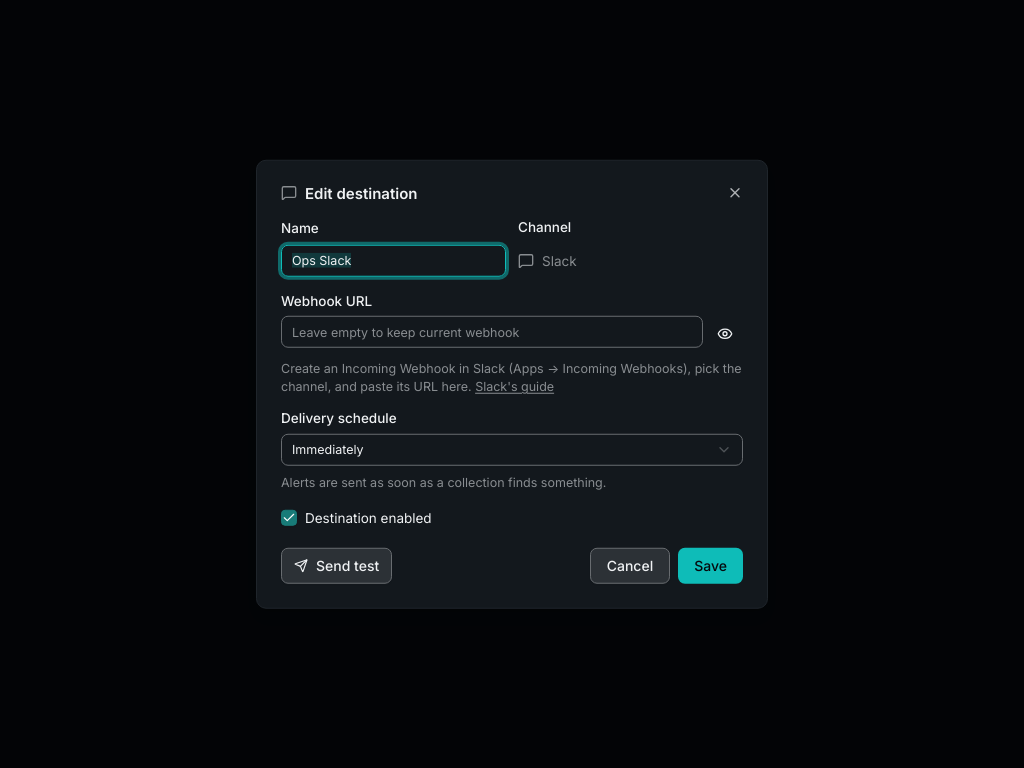
Test: DestinationDialog — Send test before saving › names the saved destination on edit, leaving a blank secret to the stored one
What coordinates should you click on to do the following:
click the button "Send test"
I would click on:
 (337, 565)
Its box is left=281, top=547, right=392, bottom=583.
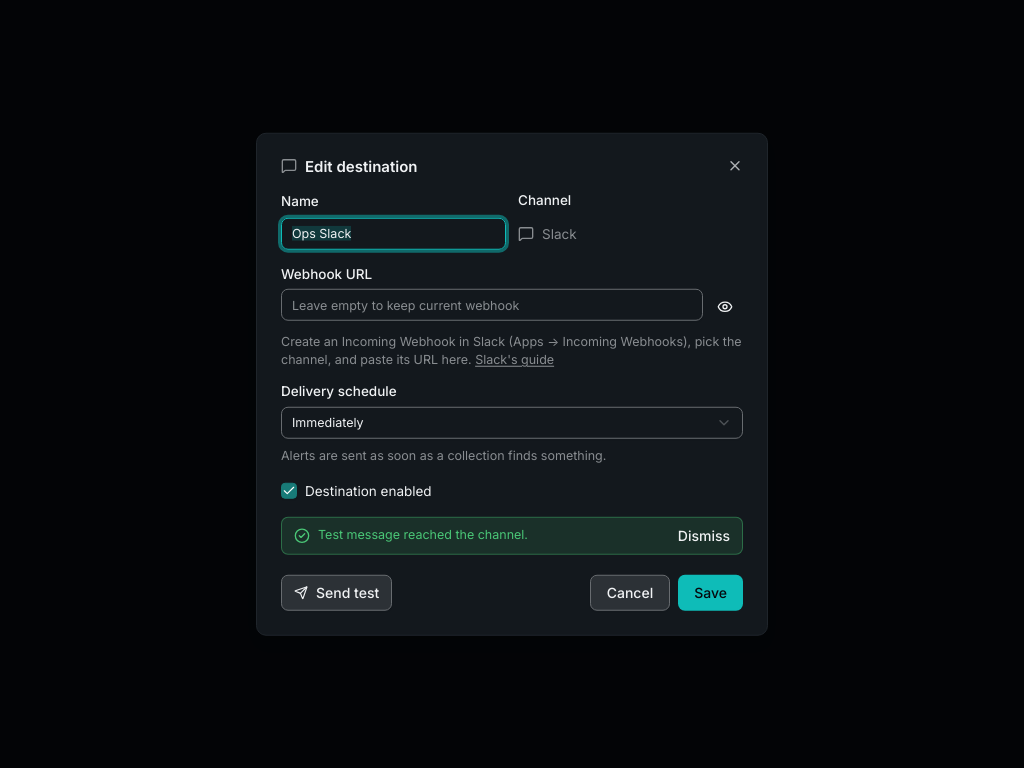
Expected: the text "Test message reached the channel." is shown, left=318, top=526, right=528, bottom=541
